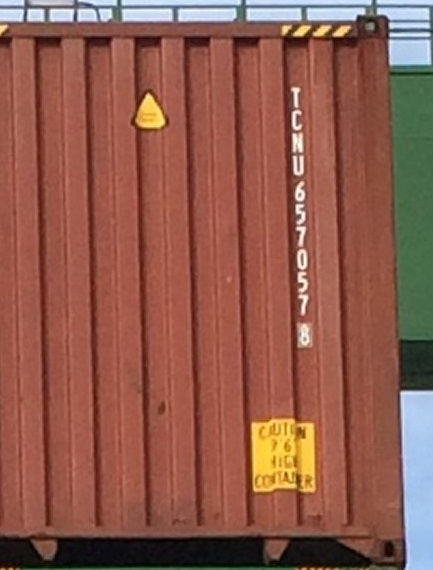container_no_door: (1, 15, 395, 562)
